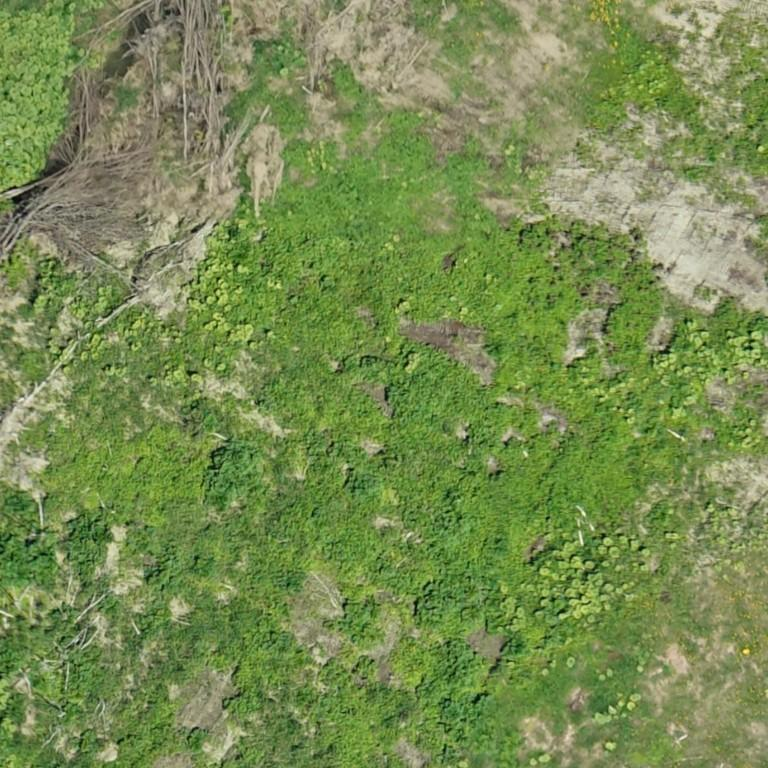hogweed: (417, 641, 492, 741), (207, 437, 266, 499), (65, 515, 112, 584), (0, 532, 57, 586), (411, 577, 457, 632), (328, 601, 379, 642), (0, 638, 30, 679), (344, 470, 381, 499), (188, 730, 209, 751)
